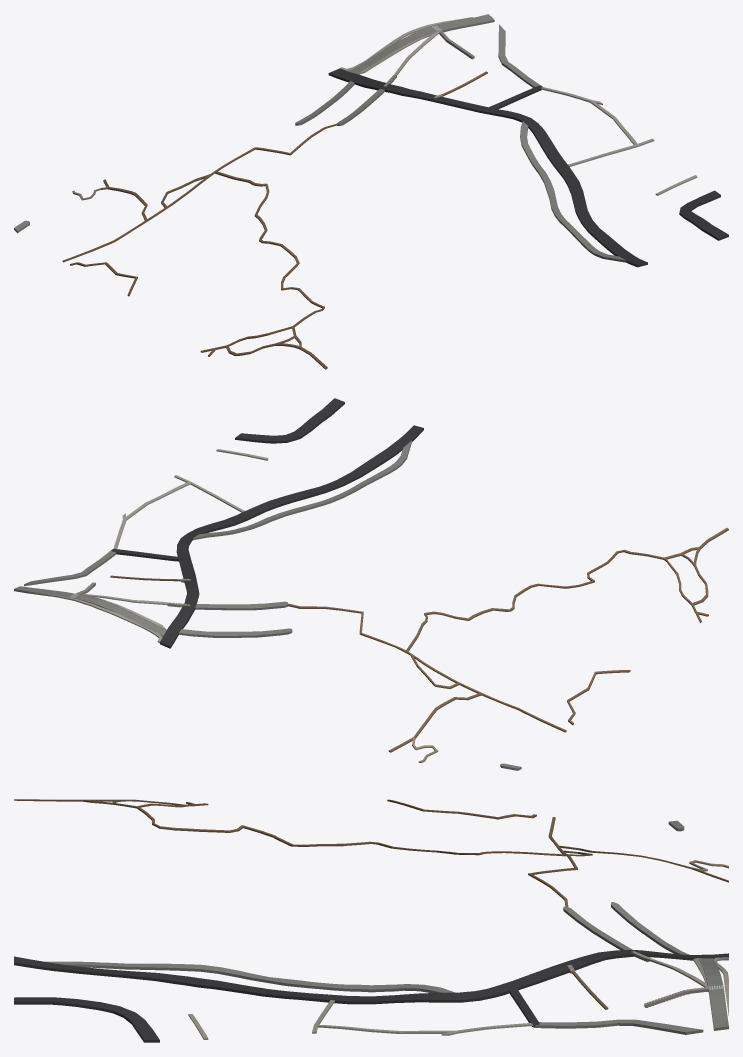
The picture shows the model from 3 angles, top to bottom: view 1: azimuth 30°, elevation 25°; view 2: azimuth 150°, elevation 25°; view 3: azimuth 270°, elevation 25°; orthographic projection. The views are drawn at different scales.
Size of the model in its own units: 293 by 48.1 by 292.
